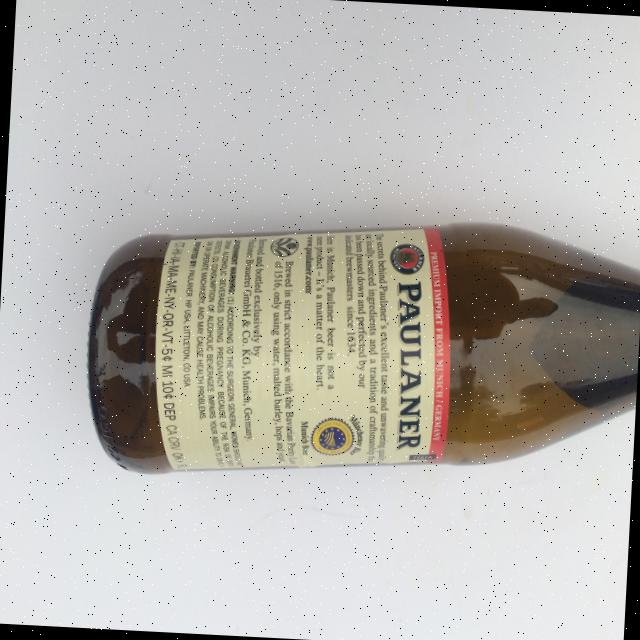glass: (80, 201, 640, 499)
